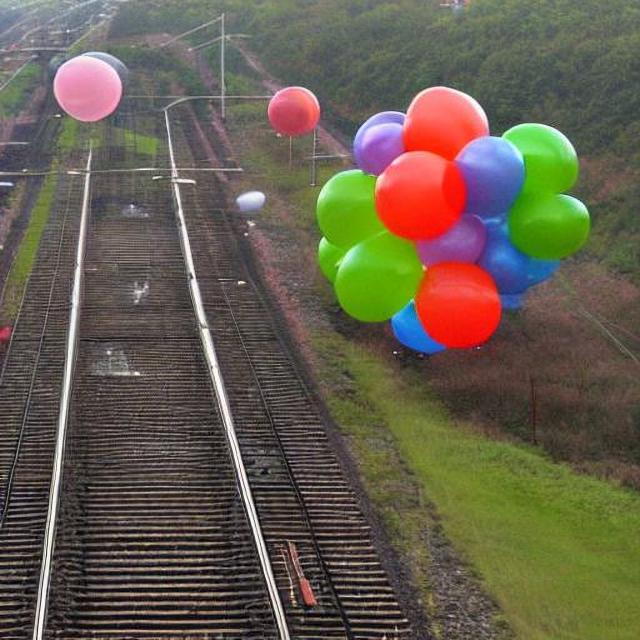balloon: (320, 82, 592, 366), (49, 51, 124, 120), (262, 82, 321, 140)
